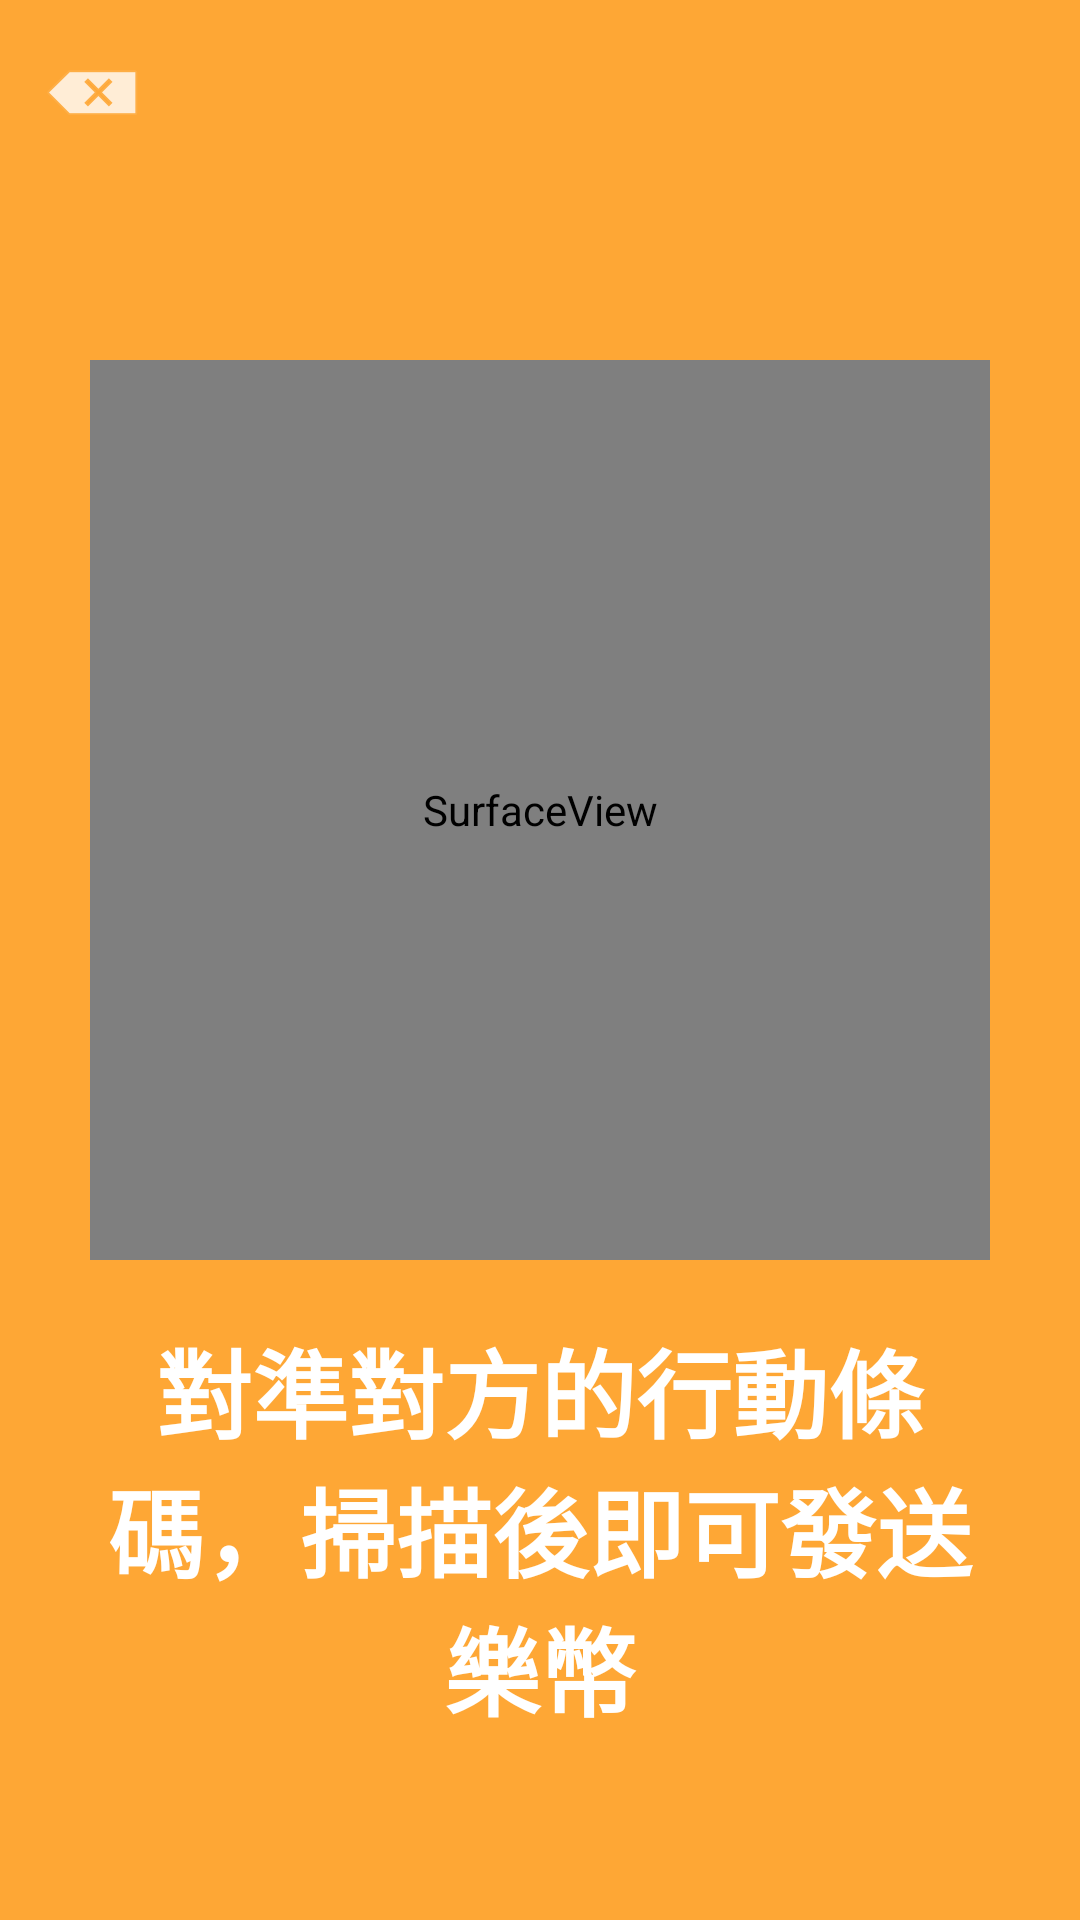

Screen size 1080px x 1920px. Icon name, then its center in pixels as point (x, y):
delete: point (92, 93)
